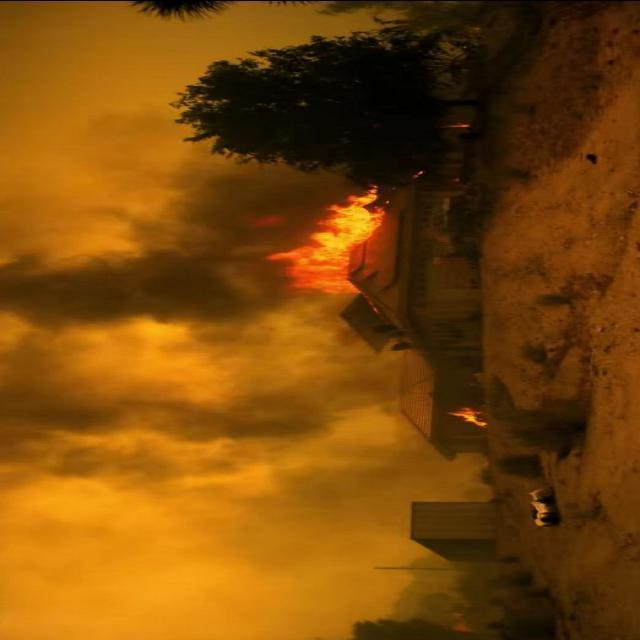Fire: (264, 182, 394, 296), (442, 406, 490, 428)
